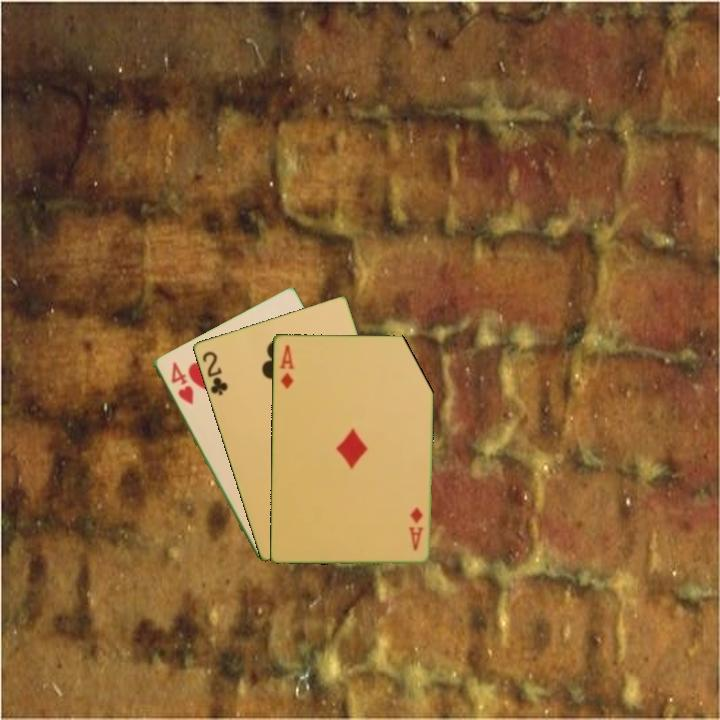2c: (198, 347, 230, 398)
4h: (167, 358, 196, 408)
Ad: (275, 341, 297, 391), (405, 503, 426, 554)
